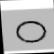no answer: (13, 20, 50, 45)
